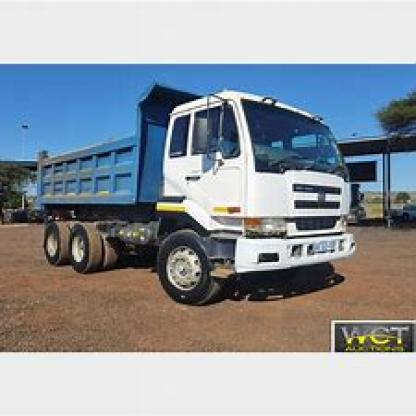dump_truck: (37, 80, 377, 292)
